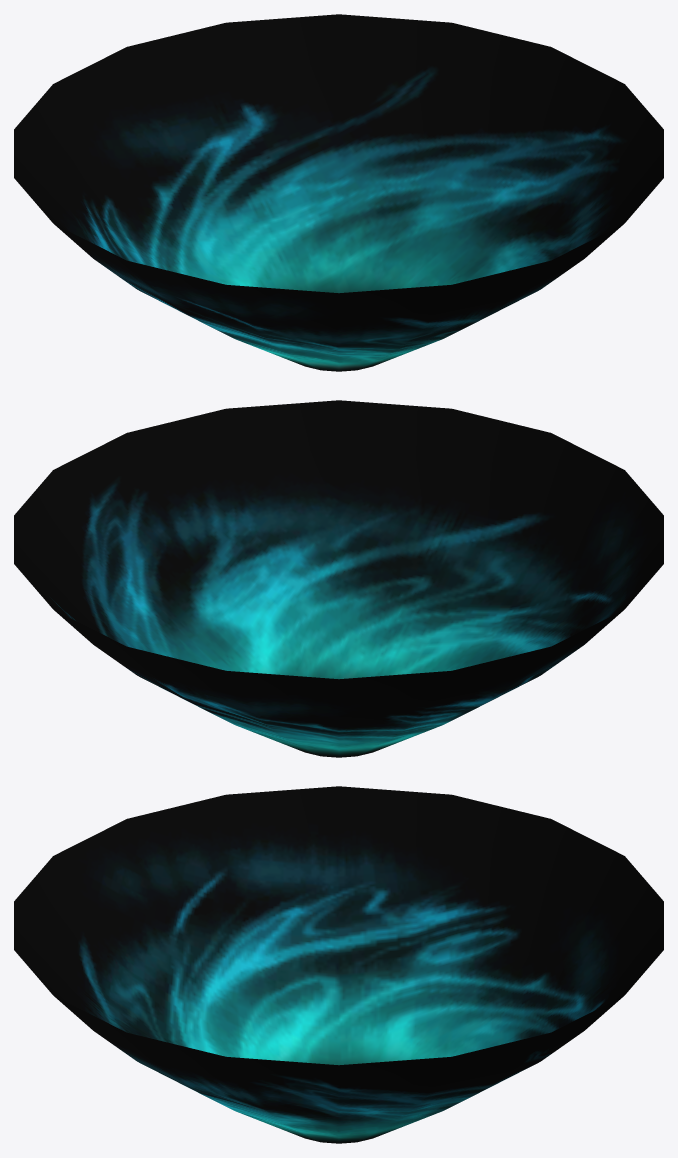
3 renders of one model, top to bottom at view 1: azimuth 30°, elevation 25°; view 2: azimuth 150°, elevation 25°; view 3: azimuth 270°, elevation 25°, orthographic.
Parts seen in each view (by area): view 1: Cylinder001; view 2: Cylinder001; view 3: Cylinder001.
Part boxes in pixels (x1,y1,x2,y2): Cylinder001: [14, 14, 663, 371]; Cylinder001: [14, 400, 663, 757]; Cylinder001: [14, 786, 663, 1143].
Bounding box in the file's own units: 99.32 × 32.46 × 97.81.
1 material, 1 textured.
